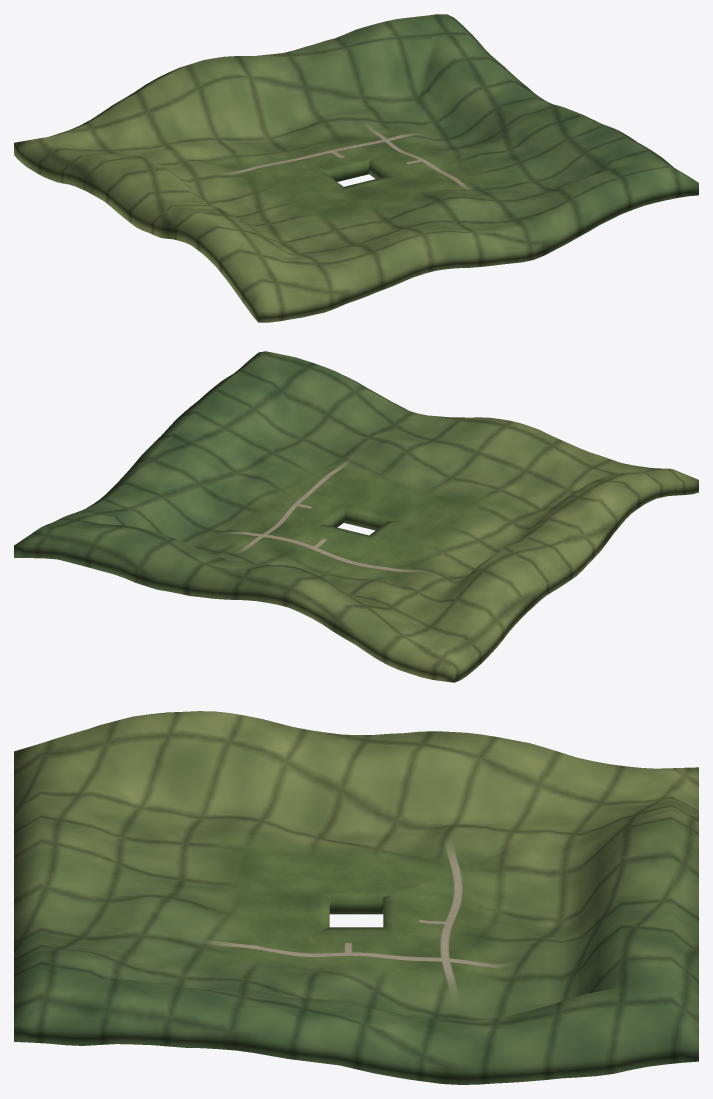
File: valley-farmland.glb
3 renders of one model, top to bottom at view 1: azimuth 30°, elevation 25°; view 2: azimuth 150°, elevation 25°; view 3: azimuth 270°, elevation 25°, orthographic. The views are drawn at different scales.
Parts seen in each view (by area): view 1: Continuous valley landscape; view 2: Continuous valley landscape; view 3: Continuous valley landscape.
Part boxes in pixels (left/top/right/bottom): Continuous valley landscape: left=14, top=14, right=698, bottom=322; Continuous valley landscape: left=14, top=351, right=698, bottom=682; Continuous valley landscape: left=14, top=711, right=698, bottom=1084.
Bounding box in the file's own units: 156 × 24.7 × 150.
1 material, 1 textured.
